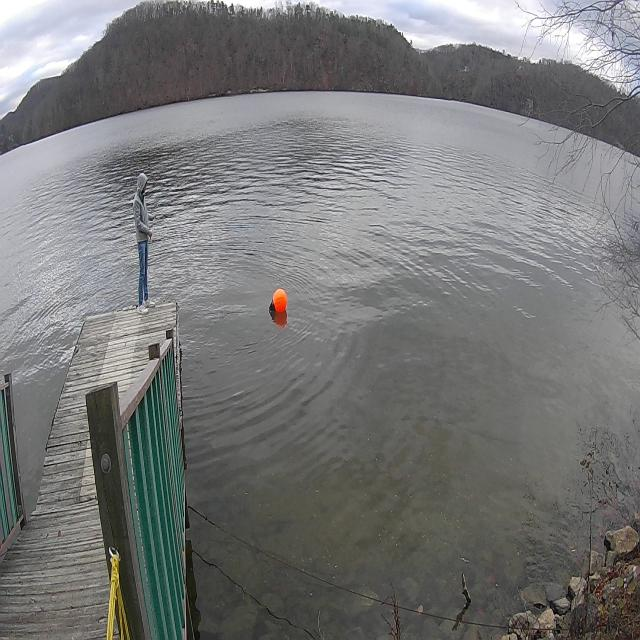Buoy: (257, 264, 298, 345)
